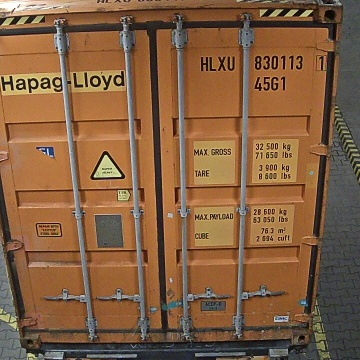serial_id: (201, 55, 326, 70)
